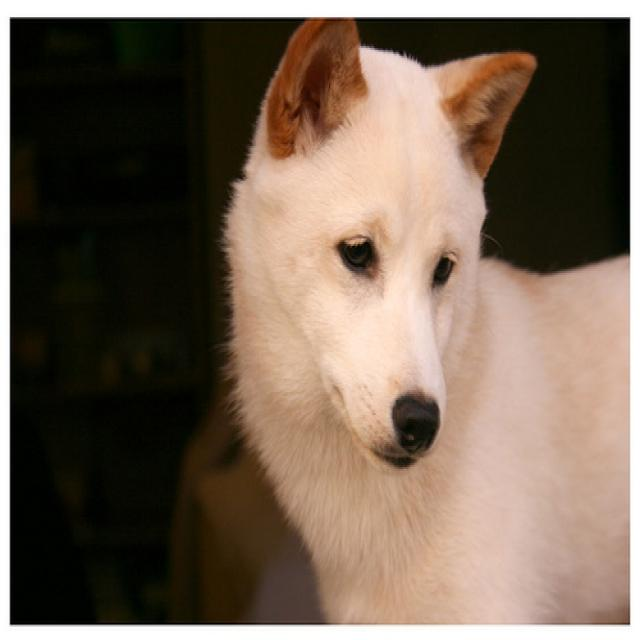dog-shiba_inu: (214, 13, 637, 636)
